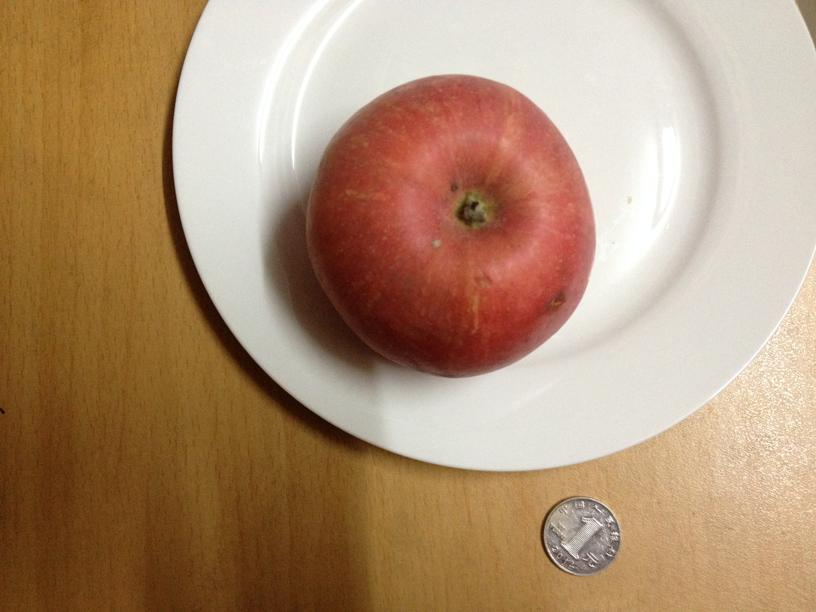apple: (296, 70, 597, 379)
coin: (540, 496, 622, 576)
